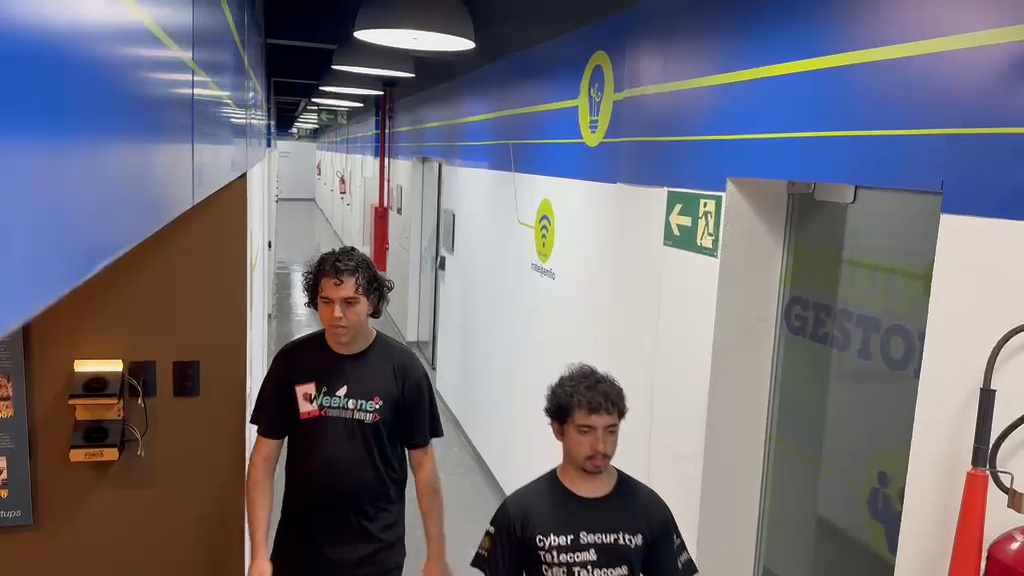person: (246, 244, 452, 573), (471, 362, 698, 573)
